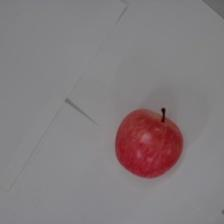red: (113, 100, 186, 181)
